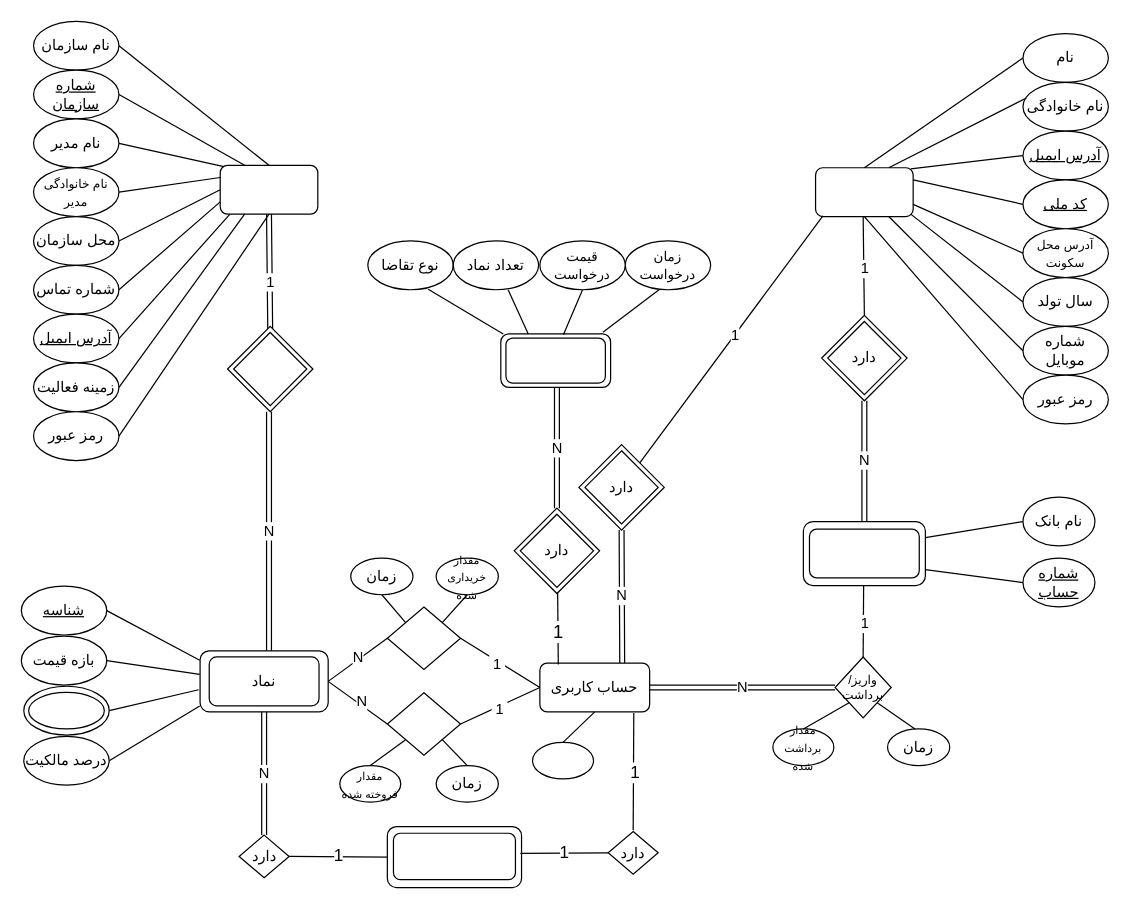
This 1130x909 diagram has some shape labels left out. The box of each missing label's shape, as (x1, y1, x2, y2) in pixels:
/درصد رشد سقوط: (27, 691, 104, 729)
حساب بانکی: (808, 528, 919, 578)
خرید: (386, 606, 461, 669)
سهامداران: (814, 167, 913, 217)
فروش: (386, 692, 461, 755)
قدرت خرید: (531, 741, 594, 779)
لیست تقاضا: (505, 337, 605, 383)
لیست دارایی: (392, 832, 515, 880)
واگذاری: (232, 331, 307, 406)
‌سازمان‌ها: (219, 164, 318, 214)
